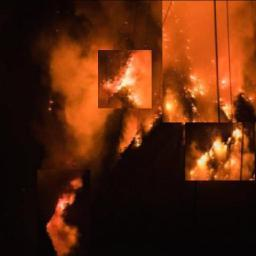Heavy smoke: (2, 3, 169, 176)
Large fire: (159, 0, 255, 122), (182, 120, 255, 180), (41, 170, 82, 256), (100, 50, 153, 110)
